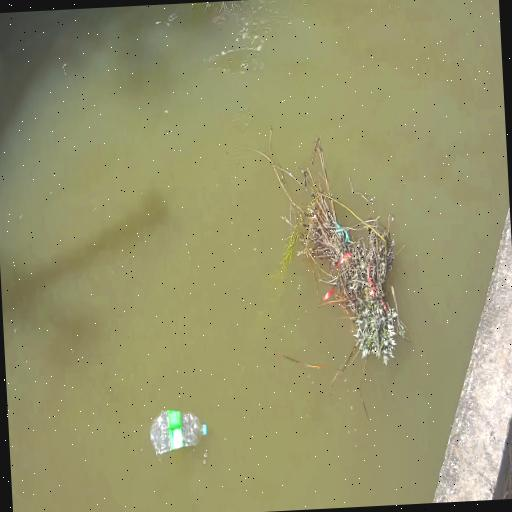plastic: (151, 410, 206, 454), (202, 424, 207, 435)
twig: (240, 126, 408, 420), (359, 357, 369, 422)
